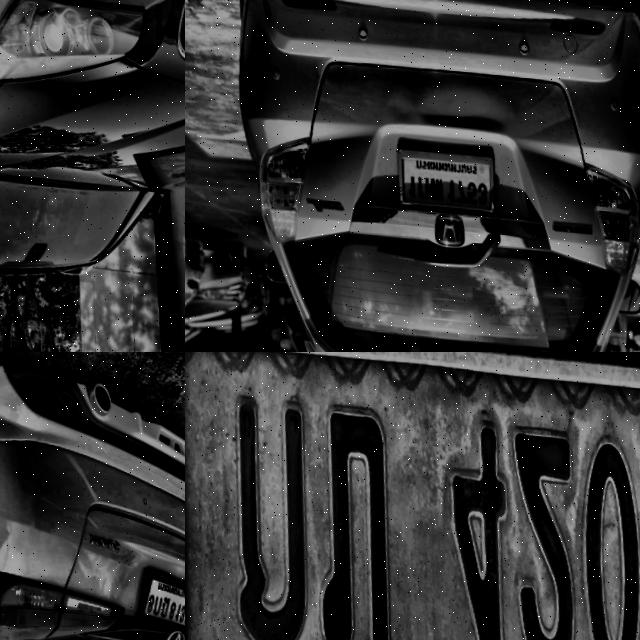license-plate: (185, 352, 640, 640), (379, 128, 498, 223), (123, 553, 185, 634)
